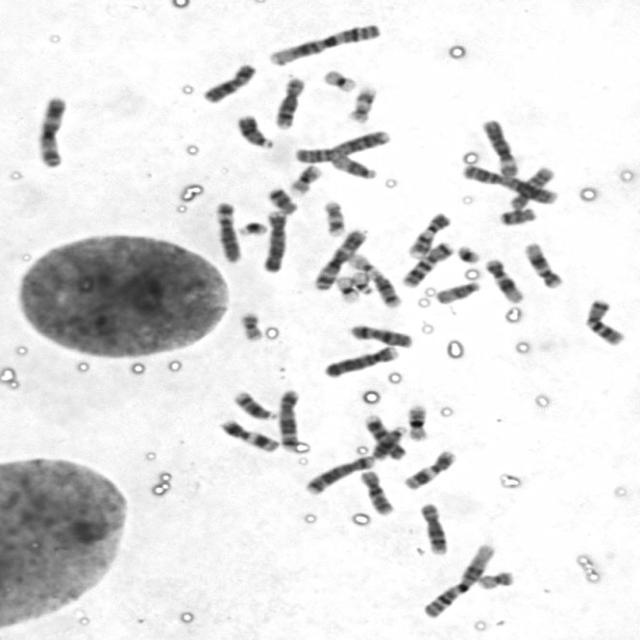A1: (418, 540, 497, 620), (264, 18, 384, 68)
A2: (458, 160, 560, 206), (289, 125, 392, 164)
A3: (309, 224, 371, 292), (31, 91, 69, 168)
B4: (319, 341, 401, 379), (257, 206, 289, 274)
B5: (302, 451, 376, 496), (276, 385, 308, 452)
C10: (504, 163, 556, 211), (355, 467, 396, 516)
C11: (400, 445, 459, 492), (215, 414, 282, 454)
C12: (520, 238, 564, 290), (482, 254, 526, 304)
C6: (476, 114, 521, 178), (210, 197, 245, 265)
C7: (399, 238, 456, 289), (580, 294, 628, 347)
C8: (270, 72, 308, 130), (414, 498, 450, 556)
C9: (404, 208, 452, 259), (359, 411, 406, 461)
D13: (232, 110, 276, 150), (370, 423, 409, 461)
D14: (228, 386, 278, 422), (365, 268, 404, 308)
D15: (326, 150, 381, 180), (432, 277, 482, 305)
E16: (285, 161, 324, 196), (402, 400, 432, 442)
E17: (344, 81, 380, 124), (319, 196, 348, 238)
E18: (262, 182, 300, 215), (495, 203, 539, 227)
F19: (318, 65, 359, 92), (332, 272, 362, 304)
F20: (473, 566, 517, 590), (236, 307, 266, 342)
G21: (234, 216, 270, 237), (452, 241, 483, 264)
G22: (347, 266, 376, 296), (345, 249, 378, 274)
X: (197, 58, 258, 105), (346, 320, 416, 349)
